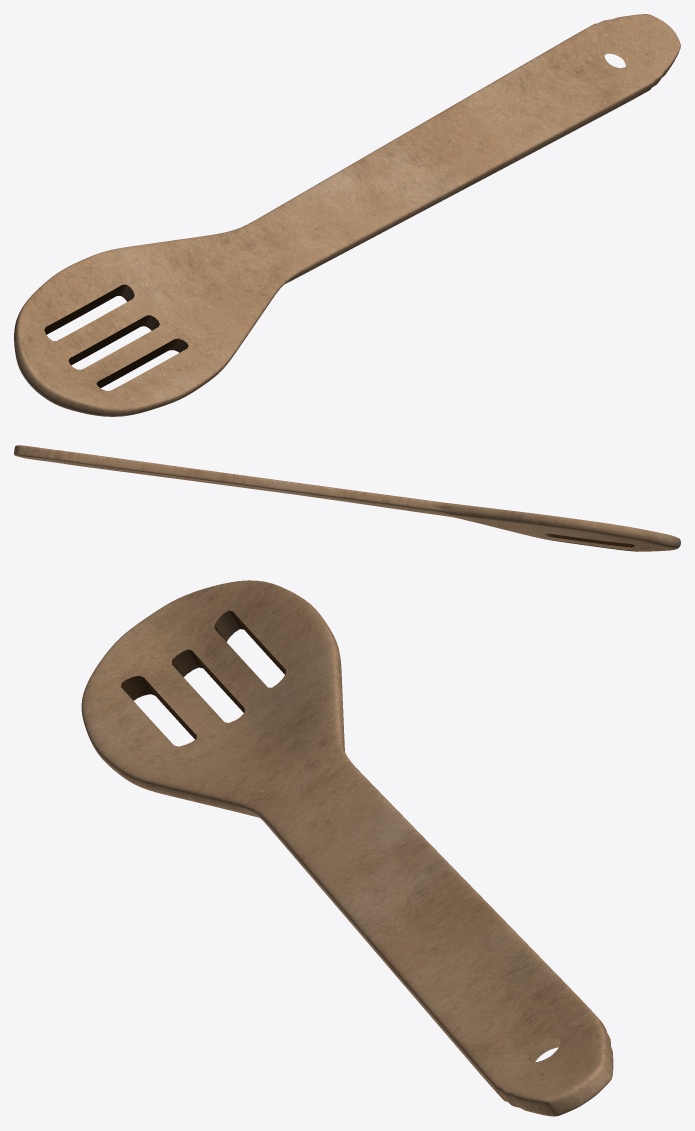
The model's file is wooden-spatula.glb.
3 renders of one model, top to bottom at view 1: azimuth 30°, elevation 25°; view 2: azimuth 150°, elevation 25°; view 3: azimuth 270°, elevation 25°, orthographic. The views are drawn at different scales.
Visible parts, largest first — view 1: SpatulaHoles; view 2: SpatulaHoles; view 3: SpatulaHoles.
Boxes of the visible parts, x1,y1,x2,y2 form: SpatulaHoles: [14, 14, 680, 416]; SpatulaHoles: [14, 445, 680, 551]; SpatulaHoles: [81, 580, 613, 1116].
Bounding box in the file's own units: 0.3744 × 0.0477 × 0.1537.
1 material, 1 textured.
